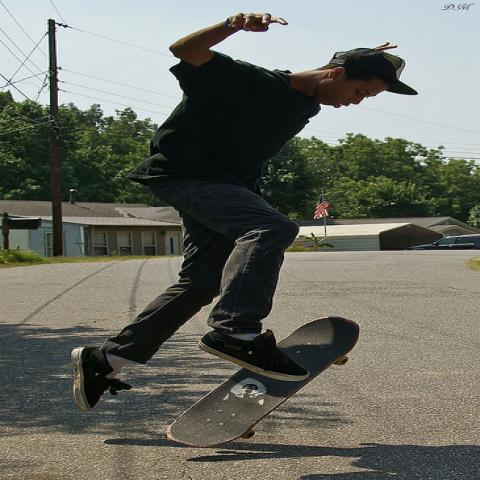car: (404, 233, 479, 251)
